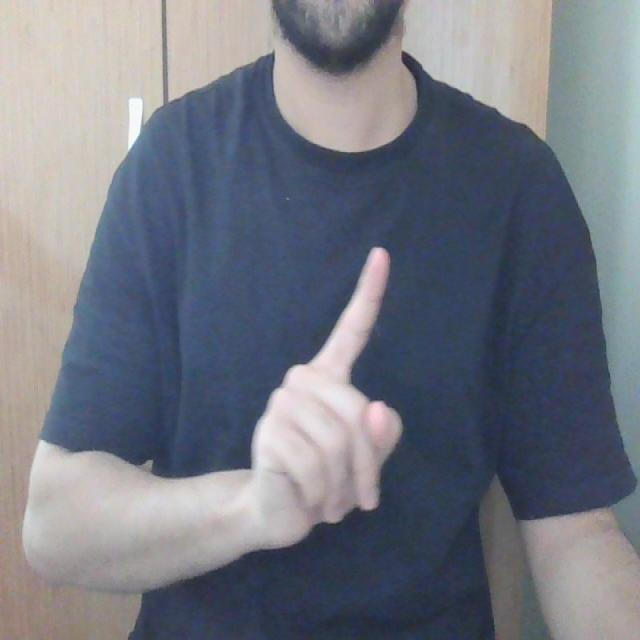Hayir: (249, 181, 405, 584)
